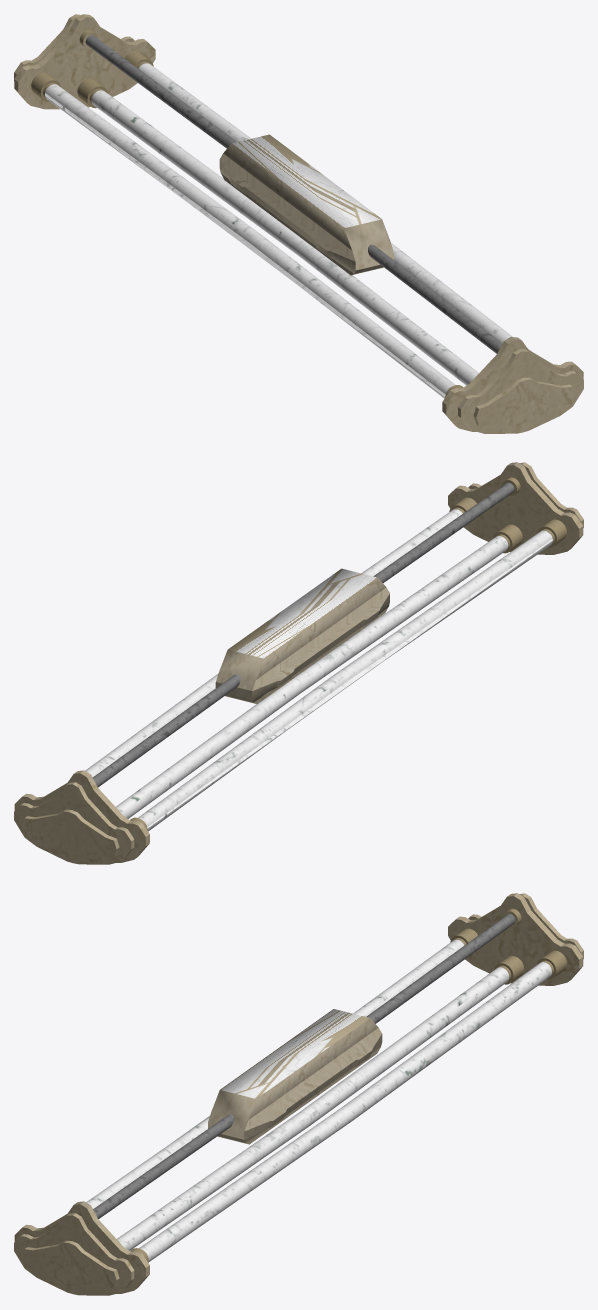
Rendered from GasStationsLight.fbx.
3 renders of one model, top to bottom at view 1: azimuth 30°, elevation 25°; view 2: azimuth 150°, elevation 25°; view 3: azimuth 330°, elevation 25°, orthographic. The views are drawn at different scales.
Parts seen in each view (by area): view 1: Gas Station Light; view 2: Gas Station Light; view 3: Gas Station Light.
Boxes of the visible parts, bbox=[...] form: Gas Station Light: bbox=[14, 14, 583, 433]; Gas Station Light: bbox=[14, 462, 583, 864]; Gas Station Light: bbox=[14, 893, 583, 1295].
Bounding box in the file's own units: 48.33 × 28.76 × 267.
1 material, 1 textured.
